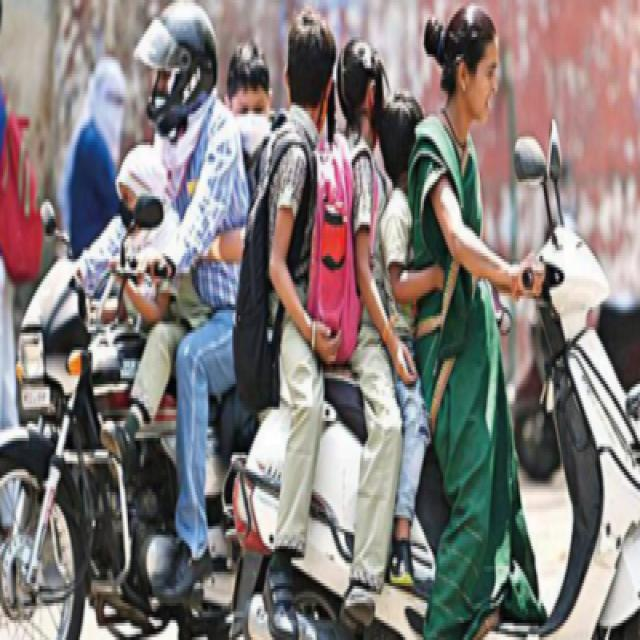motorcycle: (234, 7, 640, 638), (0, 4, 270, 638)
